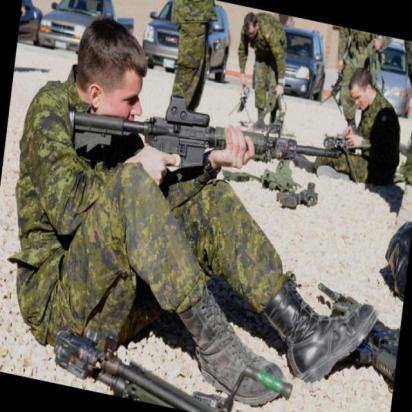Gun: (67, 82, 342, 201)
